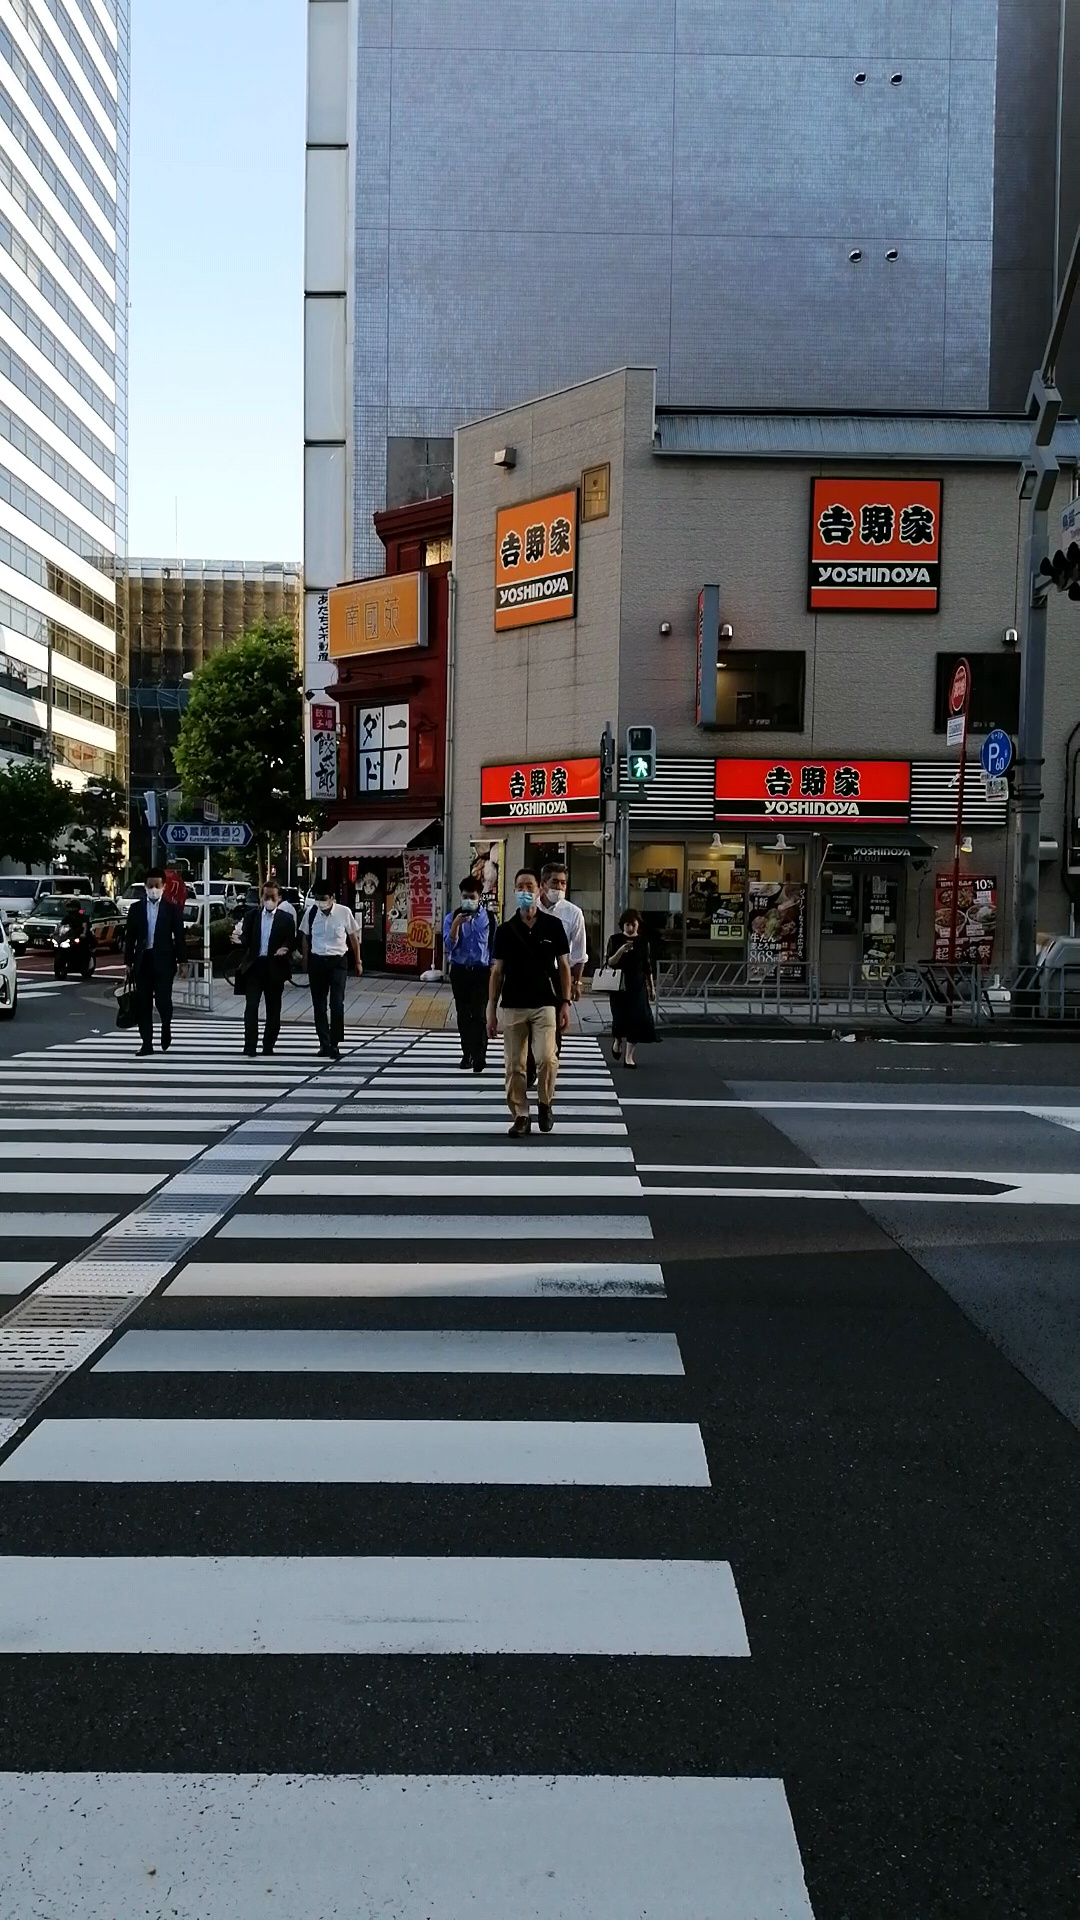green: (626, 724, 655, 782)
